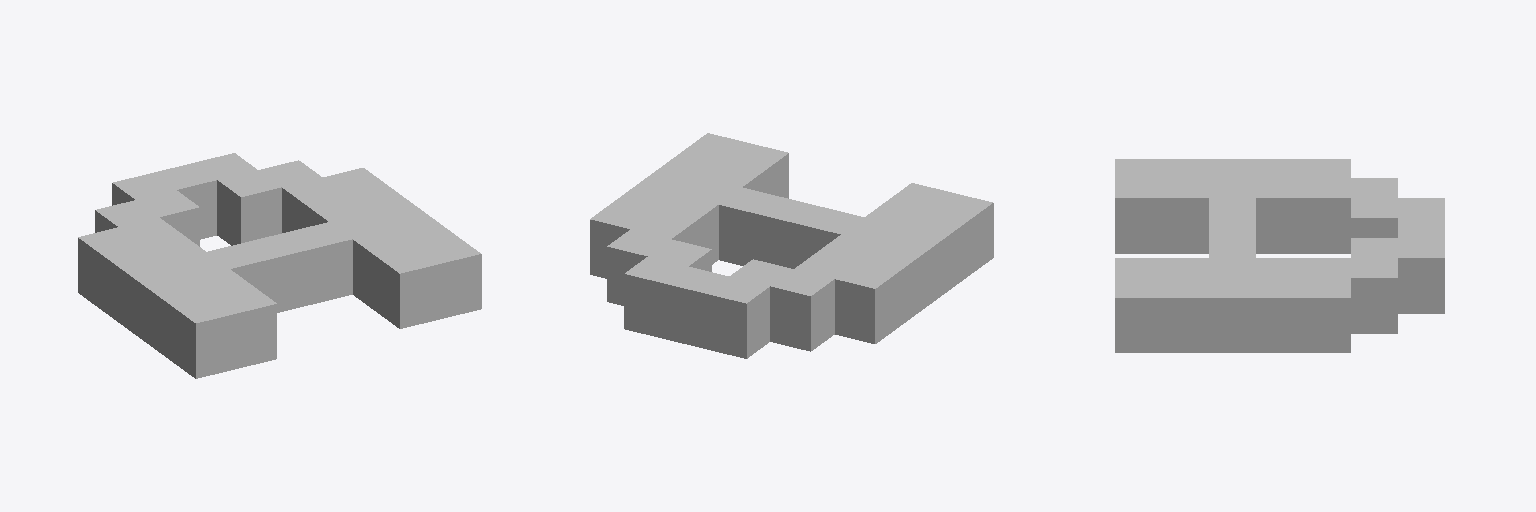
3 views of the same model, side by side, from view 1: azimuth 30°, elevation 25°; view 2: azimuth 150°, elevation 25°; view 3: azimuth 270°, elevation 25° (orthographic).
Visible parts, largest first — view 1: Letter_A_Font_mat_0; view 2: Letter_A_Font_mat_0; view 3: Letter_A_Font_mat_0.
Part boxes in pixels (bbox=[...]): Letter_A_Font_mat_0: bbox=[78, 153, 481, 378]; Letter_A_Font_mat_0: bbox=[590, 133, 993, 358]; Letter_A_Font_mat_0: bbox=[1115, 159, 1444, 352].
Size of the model in its own units: 0.5392 by 0.1 by 0.5401.